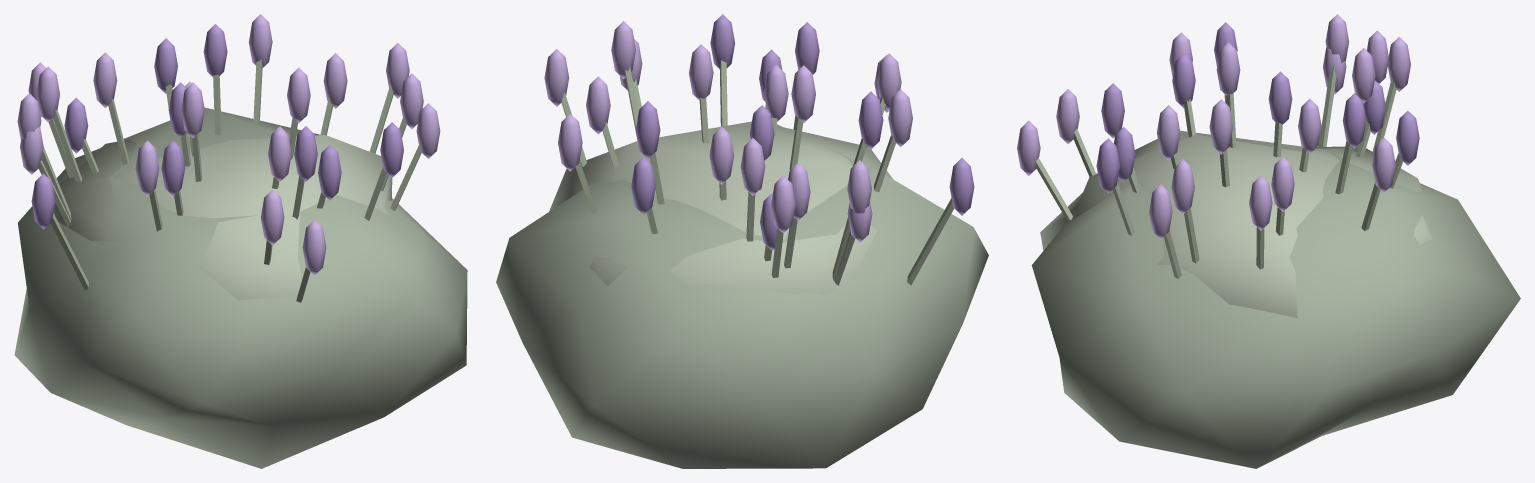
File: Lavender.gltf
3 views of the same model, side by side, from view 1: azimuth 30°, elevation 25°; view 2: azimuth 150°, elevation 25°; view 3: azimuth 270°, elevation 25° (orthographic). The views are drawn at different scales.
Parts seen in each view (by area): view 1: Lavender; view 2: Lavender; view 3: Lavender.
Boxes of the visible parts, x1,y1,x2,y2 form: Lavender: (14, 14, 467, 468); Lavender: (496, 14, 988, 468); Lavender: (1017, 14, 1520, 468).
Size of the model in its own units: 0.9943 by 0.8623 by 1.06.
